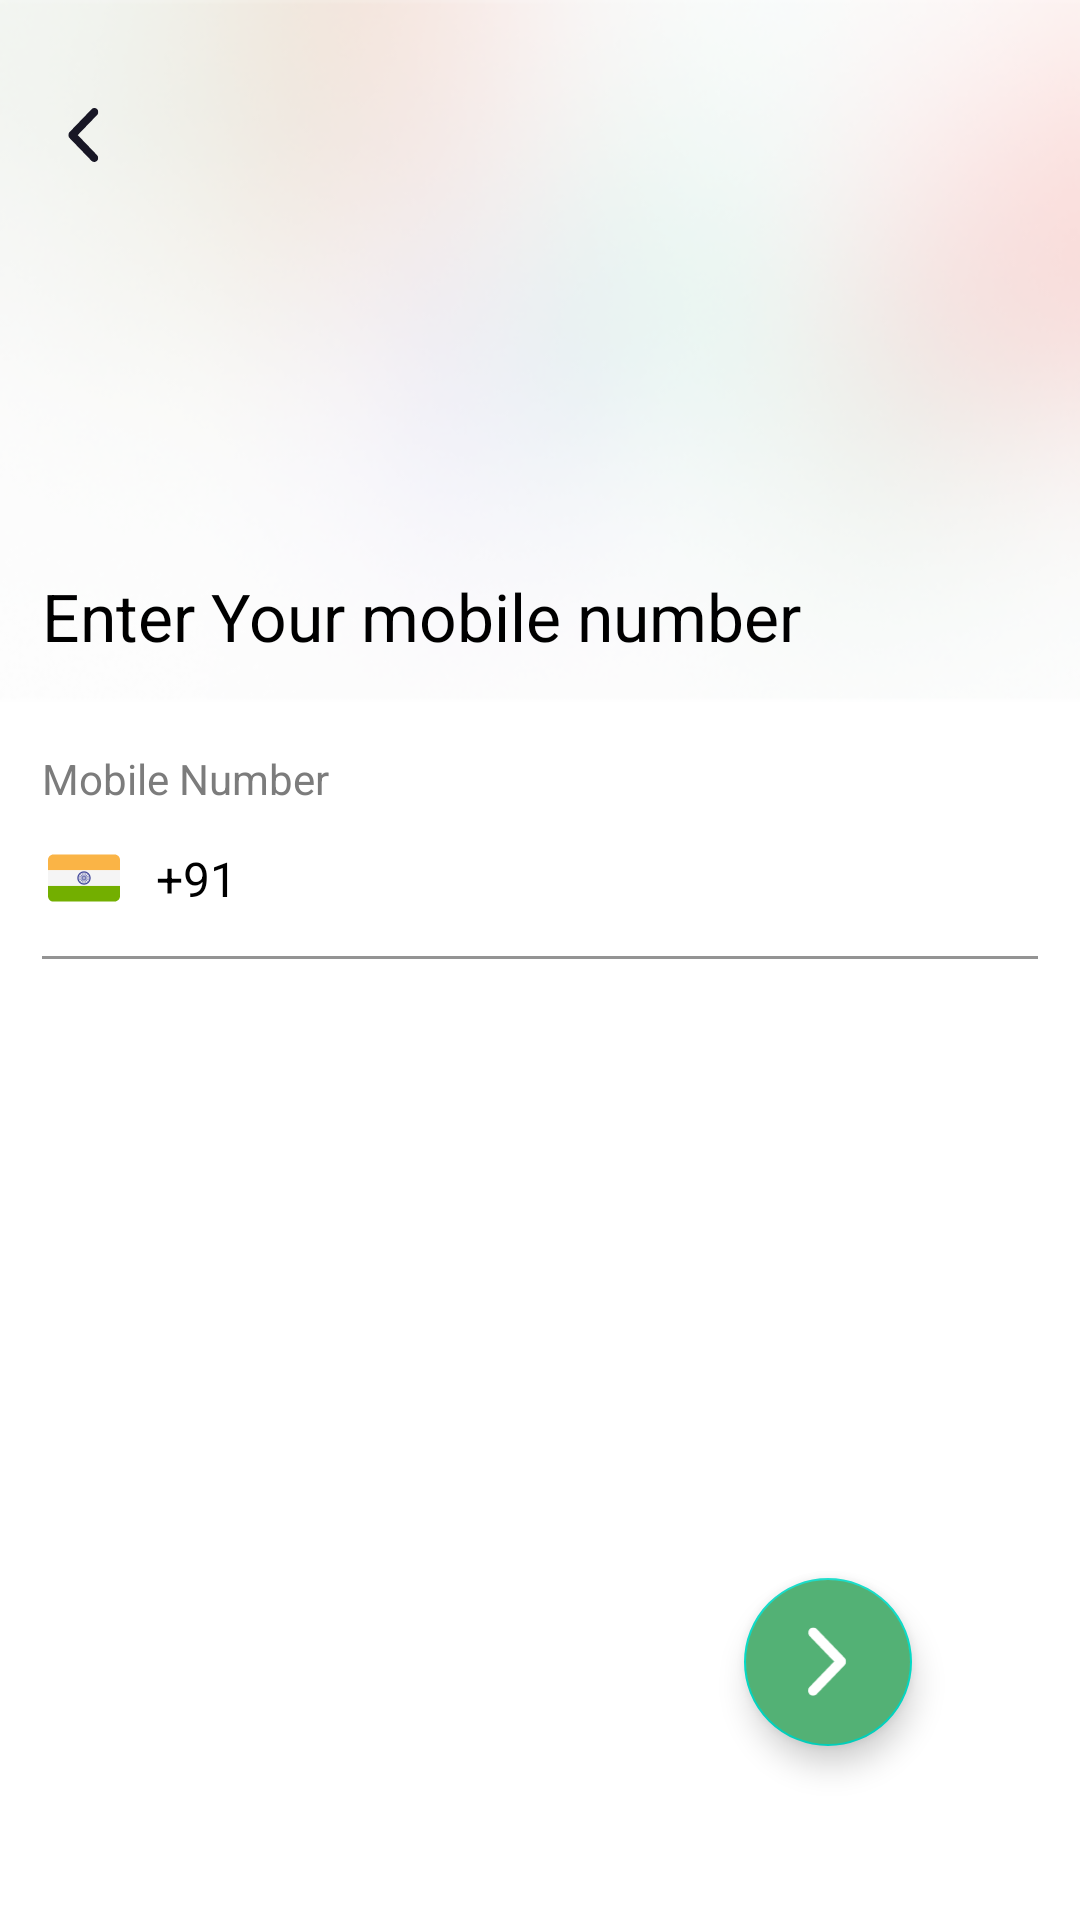

Point at icon controls on the screen. Image size 1080px x 1920px, points as (x,y).
india: (84,878)
left: (83,135)
right: (829,1670)
